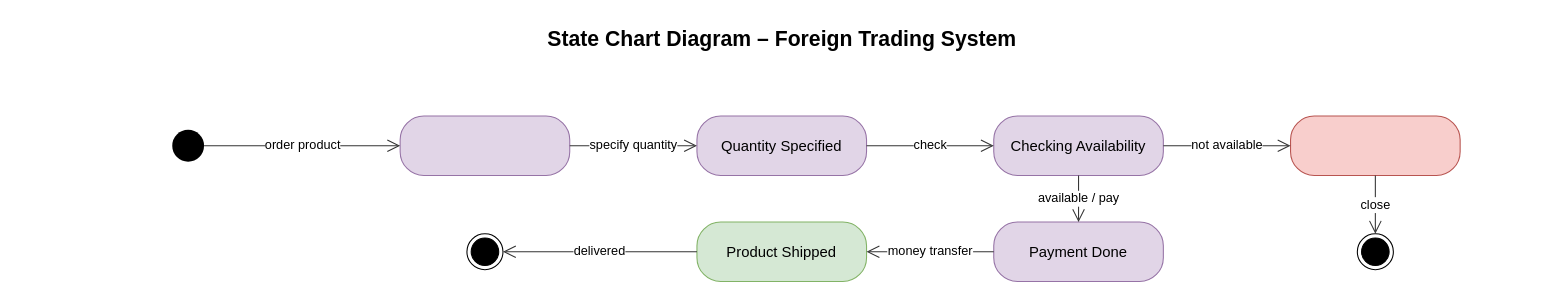
The diagram is 1562 pixels wide and 300 high, and some of its shapes have lost their labels. The shapes that lost their labels are listed below. From the top down, each one's centre as x and y in pixels, then its label:
point (484, 145): Order Placed
point (1374, 145): Order Cancelled
